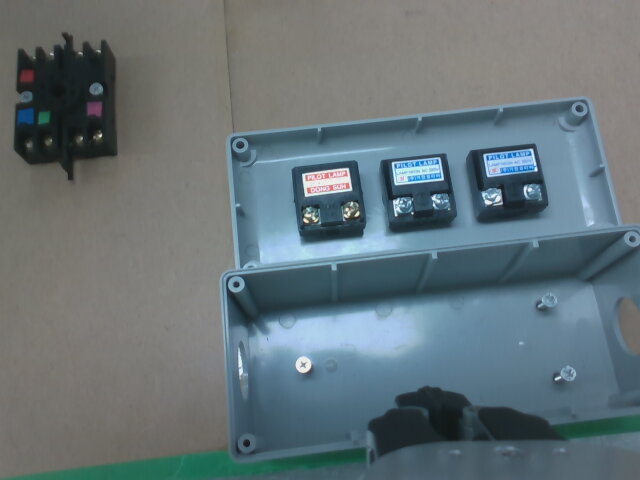L1(1): (302, 207, 320, 224)
L1(2): (341, 203, 361, 219)
L2(1): (393, 198, 413, 215)
L2(2): (432, 193, 450, 209)
L3(1): (483, 187, 503, 205)
L3(2): (524, 184, 543, 200)
